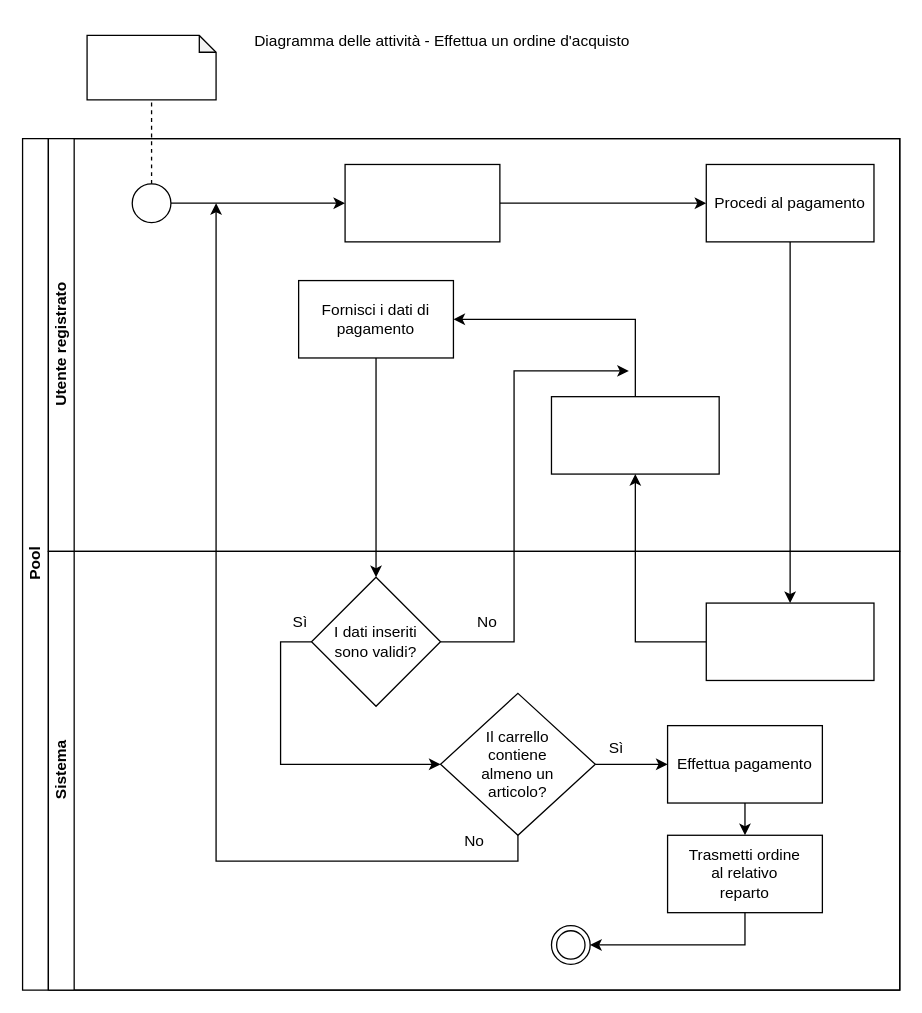
This 922x1013 diagram has some shape labels left out. The centre of each missing label's shape, as x and y in pixels:
"L'utente deve essere registrato" belongs at (x=151, y=67).
"Mostra le opzioni di pagamento disponibili" belongs at (x=789, y=641).
"Scegli articoli da acquistare" belongs at (x=422, y=202).
"Scegli una modalità di pagamento" belongs at (x=634, y=434).
